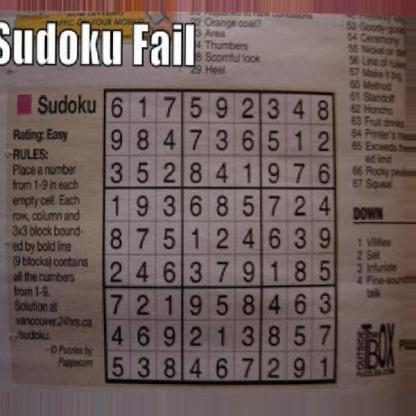sudoku: (100, 83, 340, 390)
